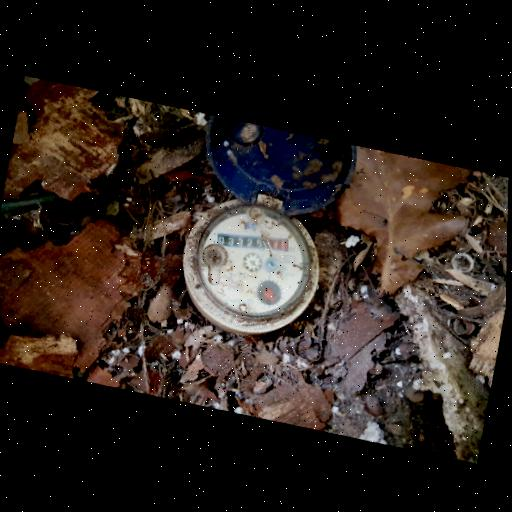0: (217, 234, 227, 246)
2: (244, 236, 255, 247), (278, 239, 287, 250)
3: (235, 235, 246, 246), (226, 235, 236, 246), (271, 238, 280, 250)
5: (253, 237, 264, 248)
border_water_meter_number: (214, 224, 291, 261)
